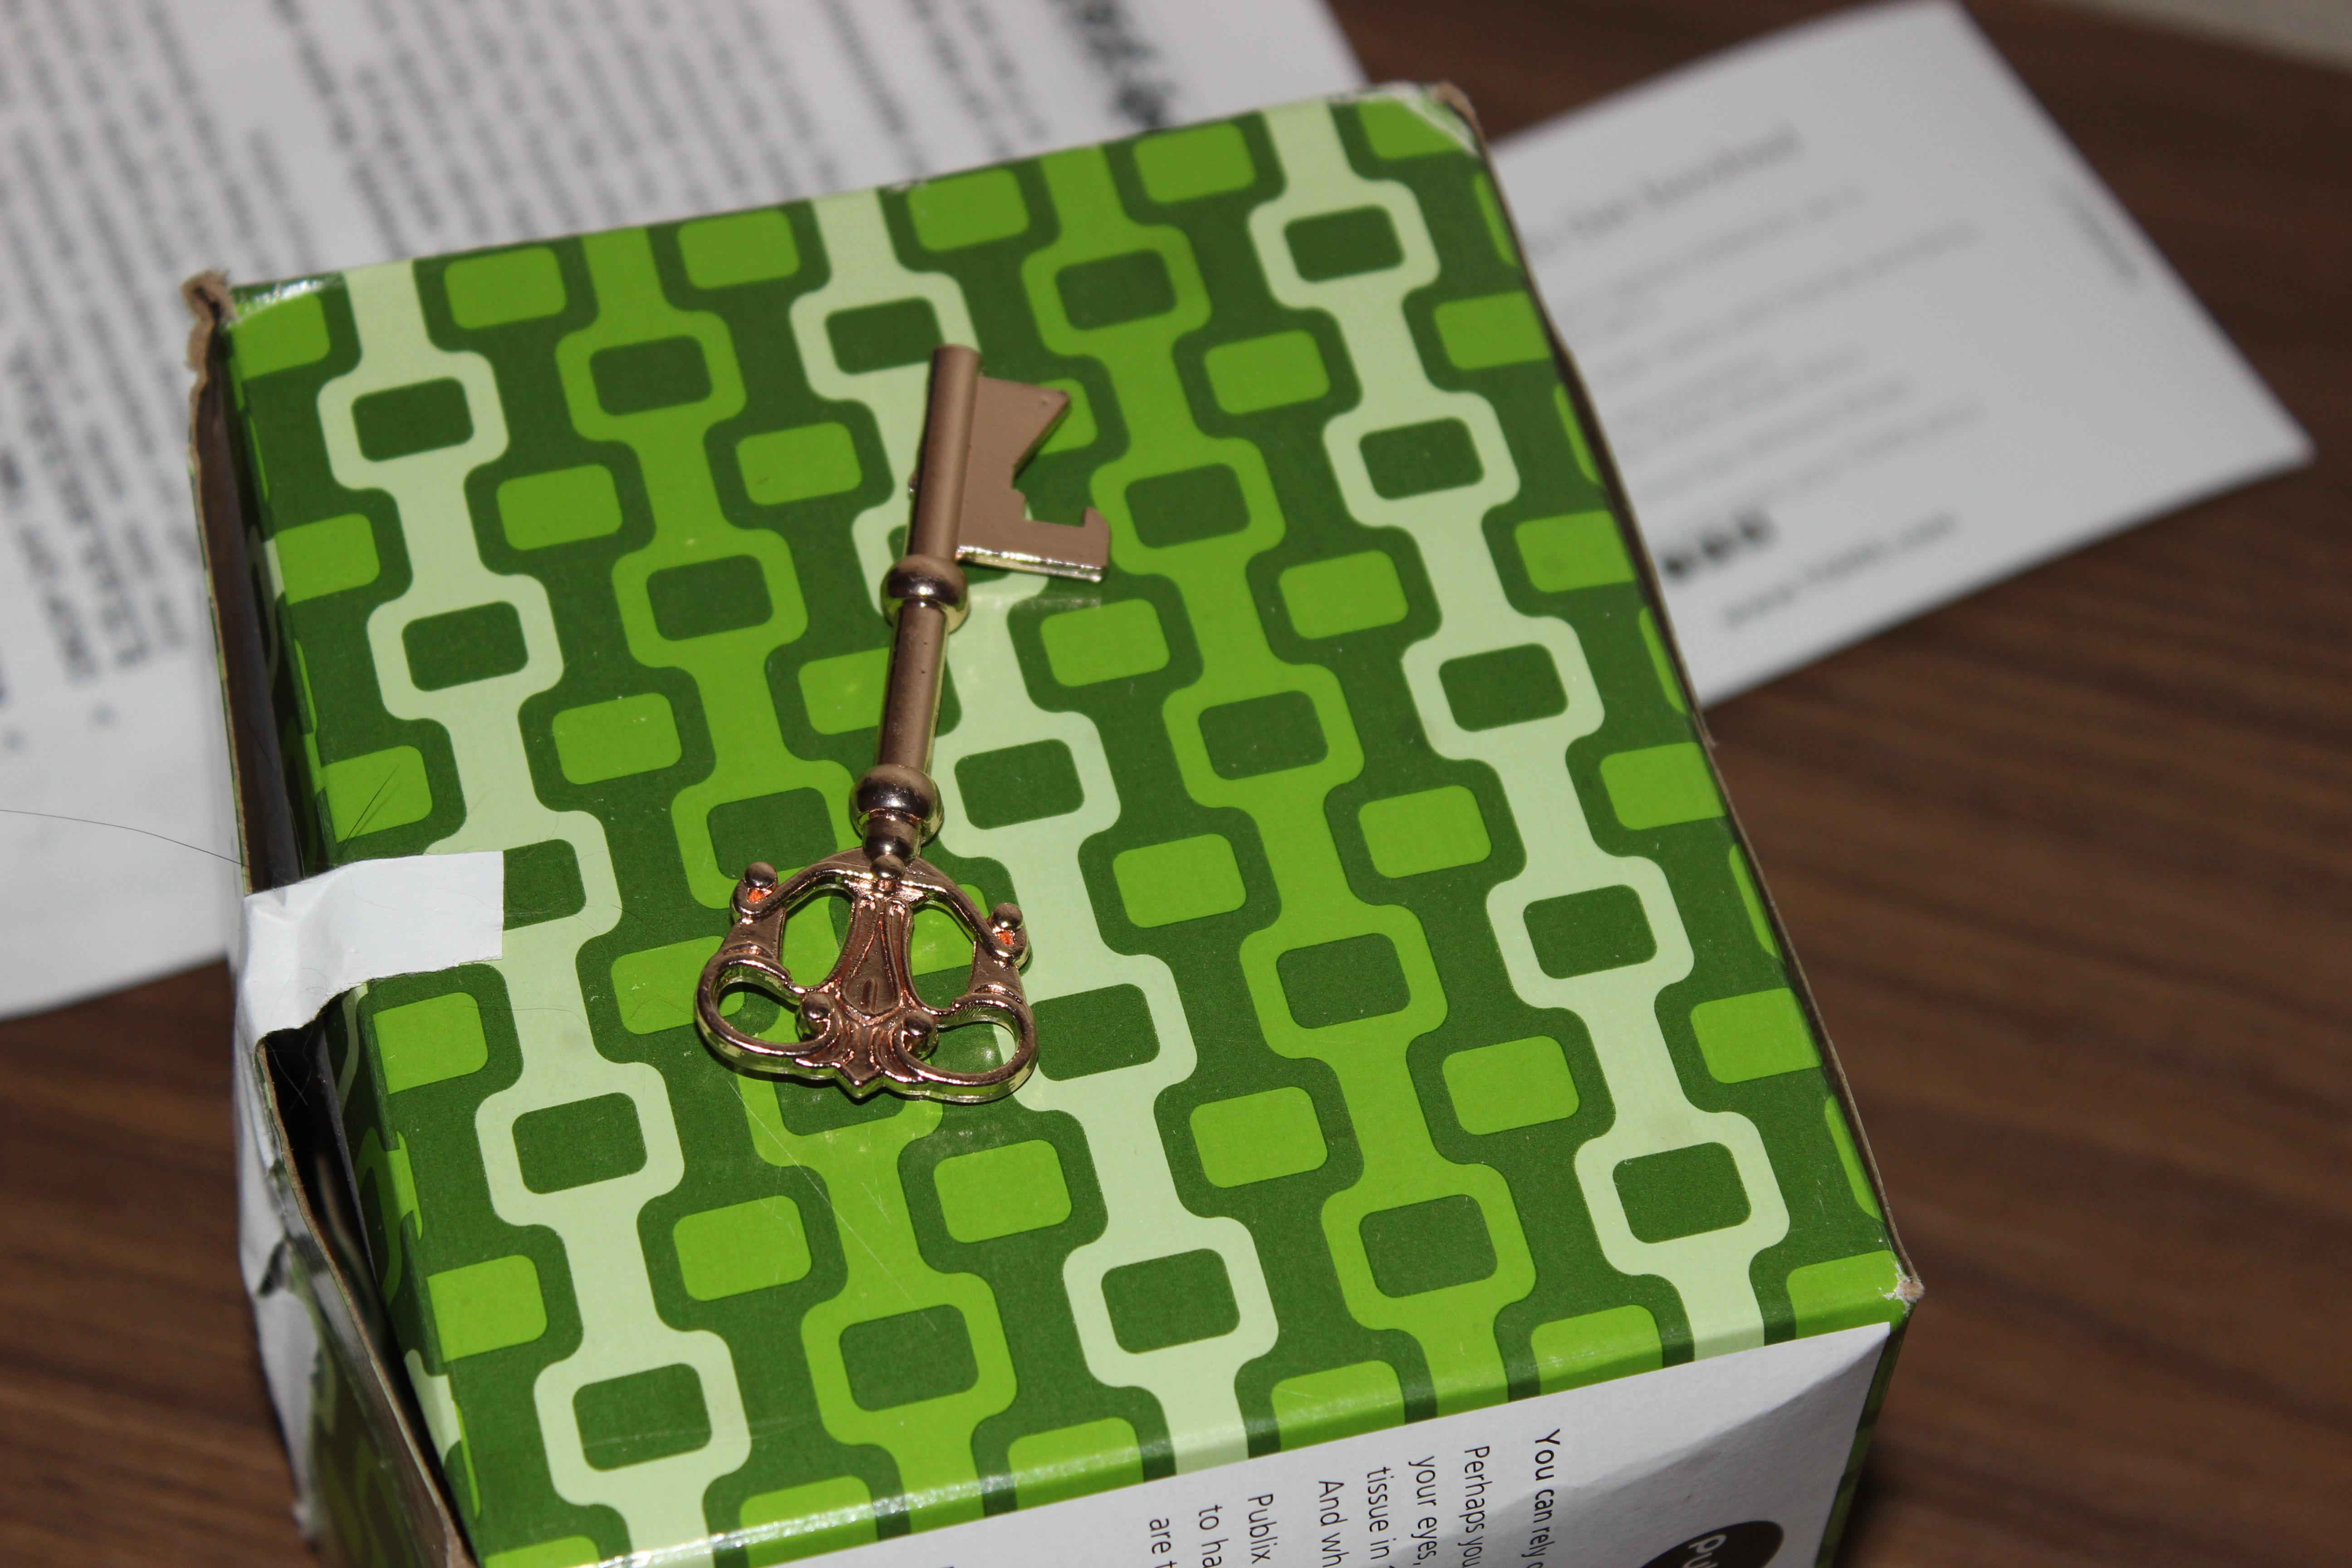metalKey: (665, 320, 1155, 1144)
